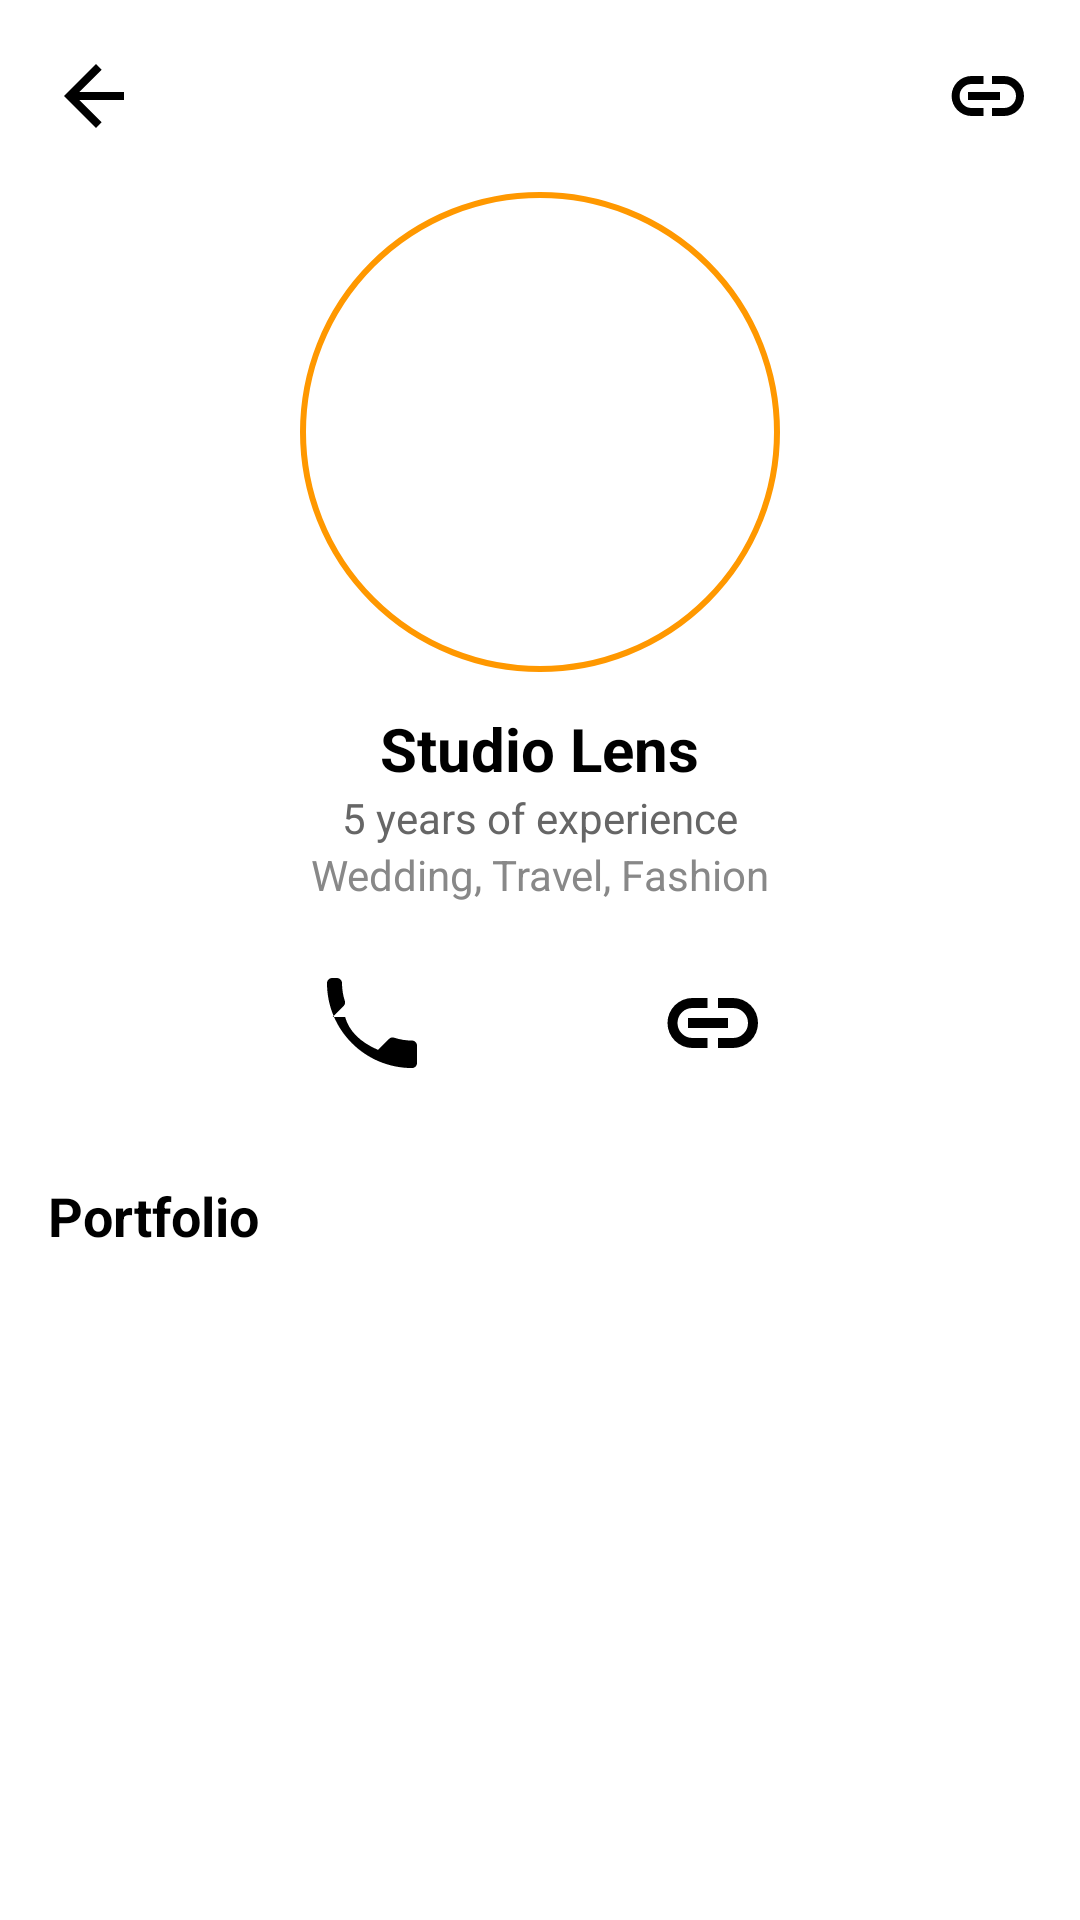

Icon bounding boxes for this 1080×1920 phone screenshot, format (x1, y1, x2, y2):
Back: (64, 64, 124, 128)
Call: (327, 978, 417, 1068)
